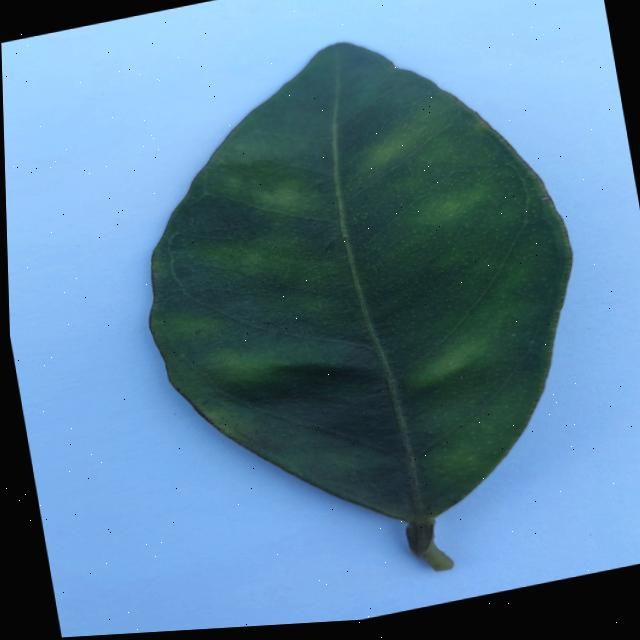greening: (150, 43, 569, 570)
